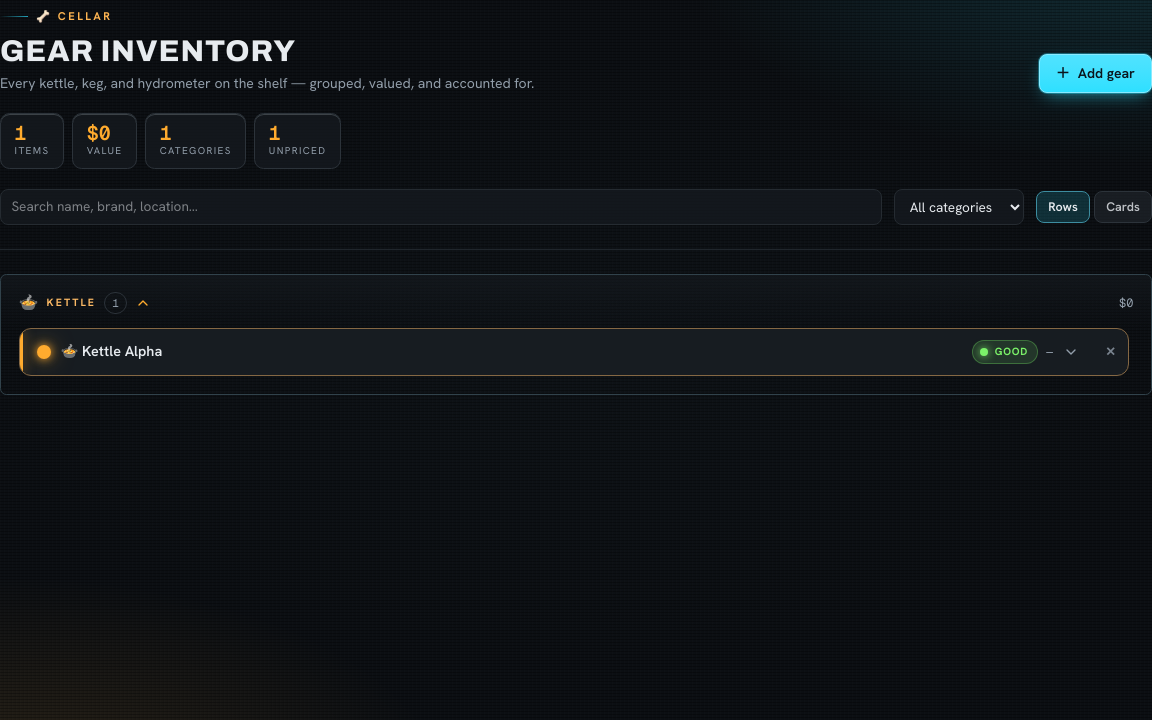
Test case: GearView › opens the edit form from an expanded row (edit wiring intact)
Expected: the text "Kettle Alpha" is shown, [82,342,162,360]
Click the button "🍲 Kettle Alpha good —". click: click(122, 351)
box: [20,329,1092,375]
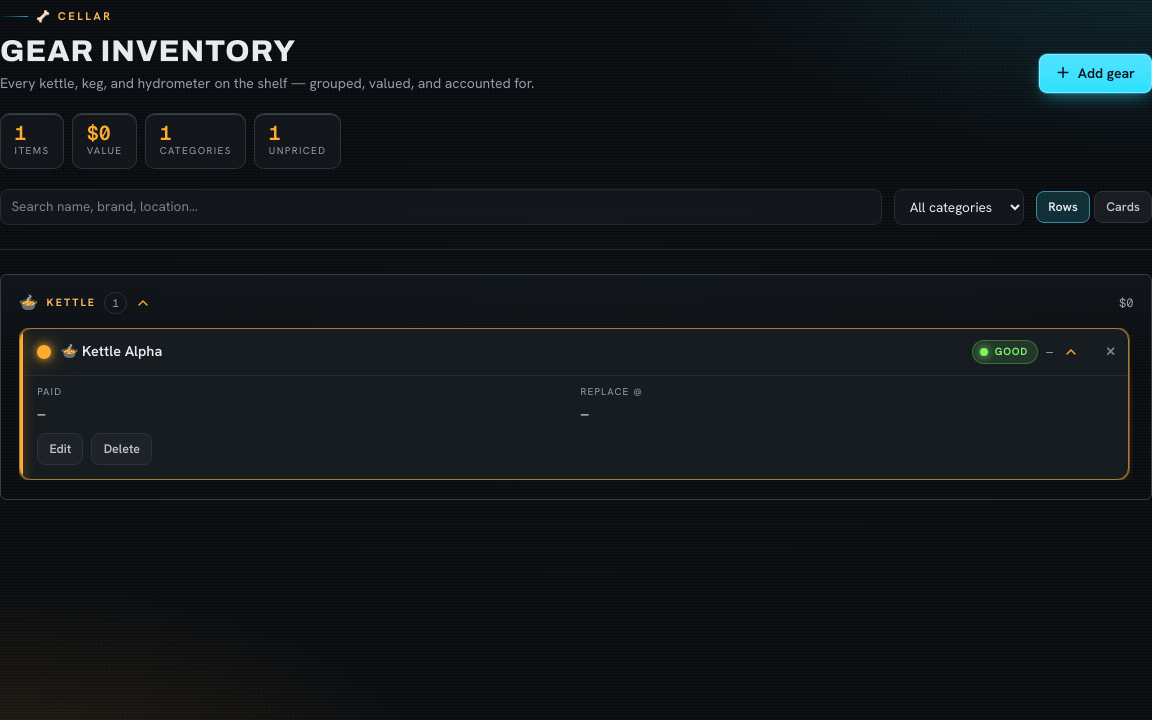
Click the button "Edit". click: click(60, 449)
box: [37,433,84,465]
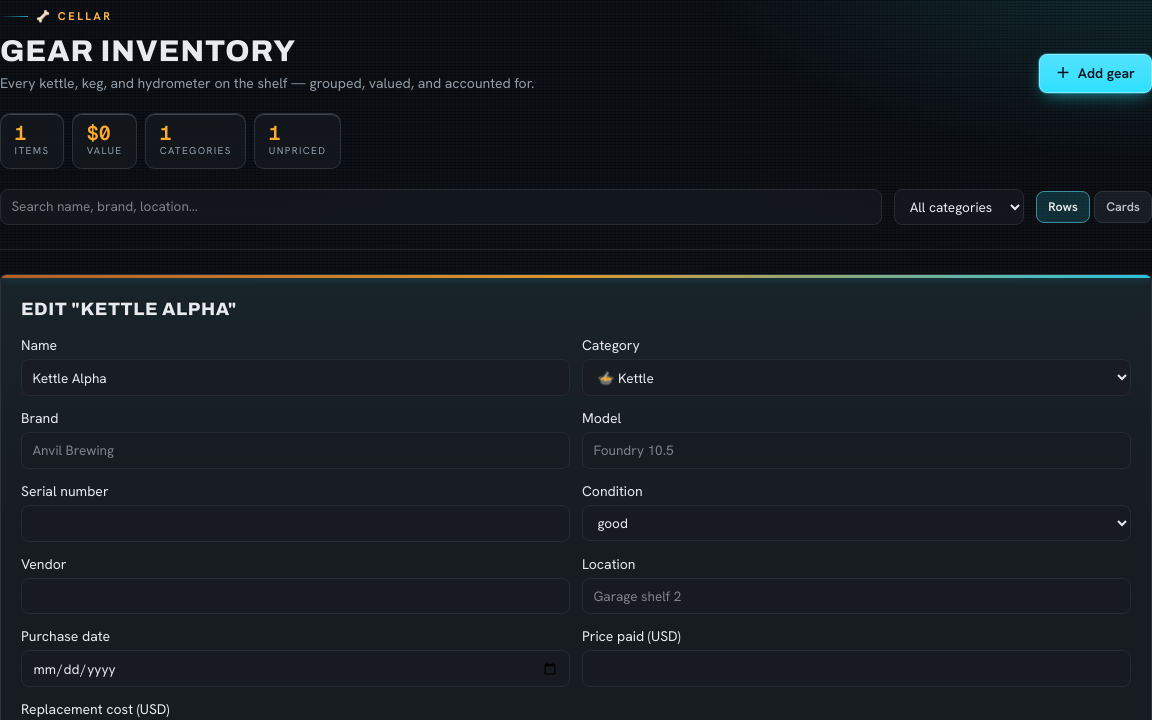
Expected: the heading "Edit \"Kettle Alpha\"" is shown, [21,299,237,319]
